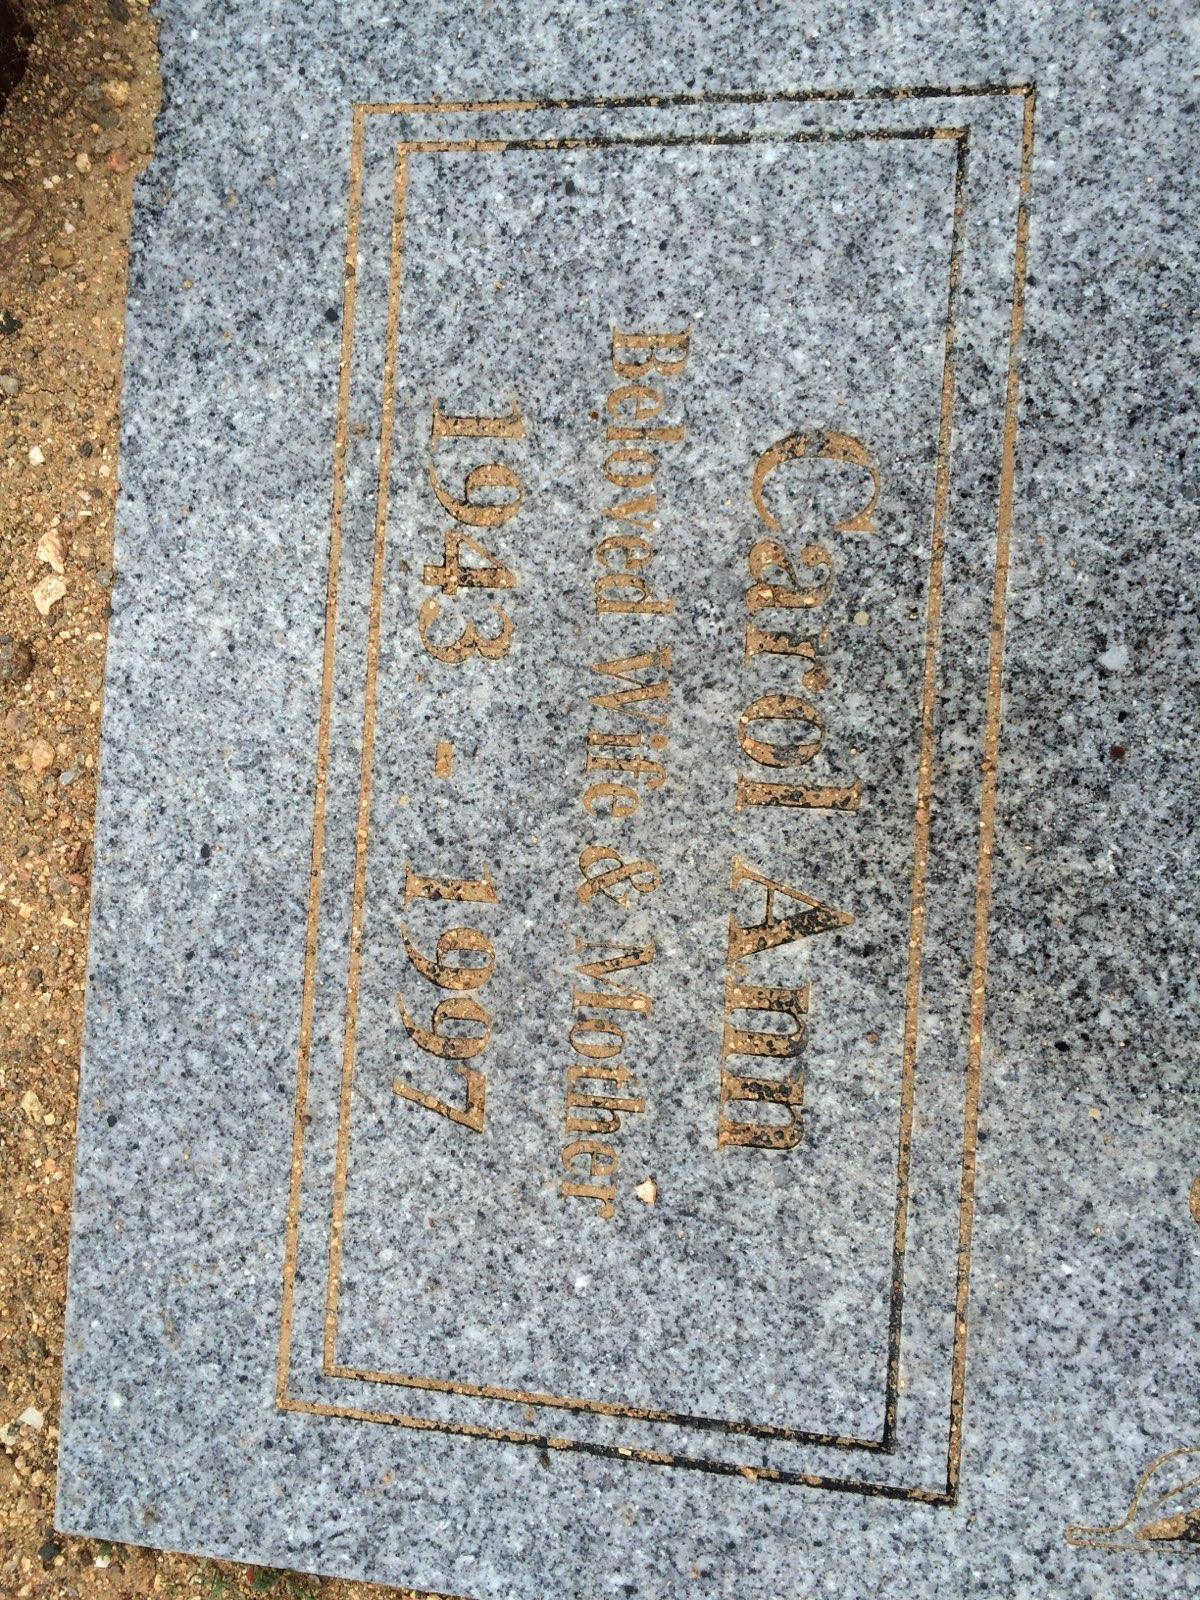flat: (20, 0, 1186, 1591)
